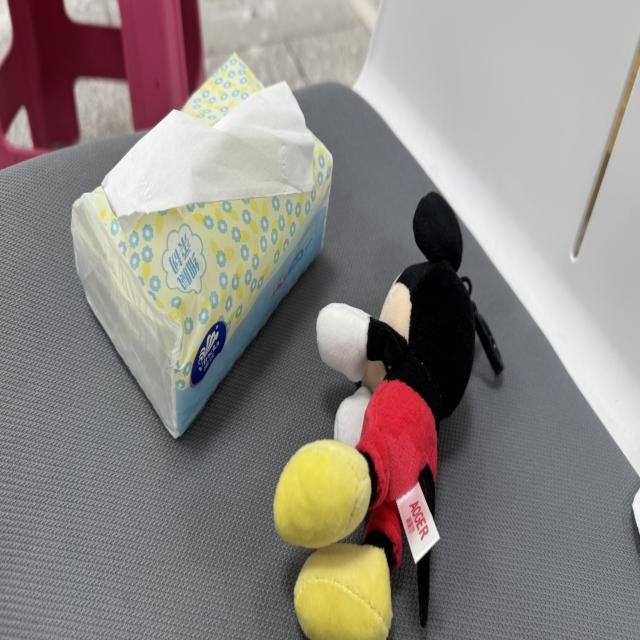mickey: (274, 193, 486, 639)
tissue: (72, 56, 331, 436), (103, 83, 314, 230)
